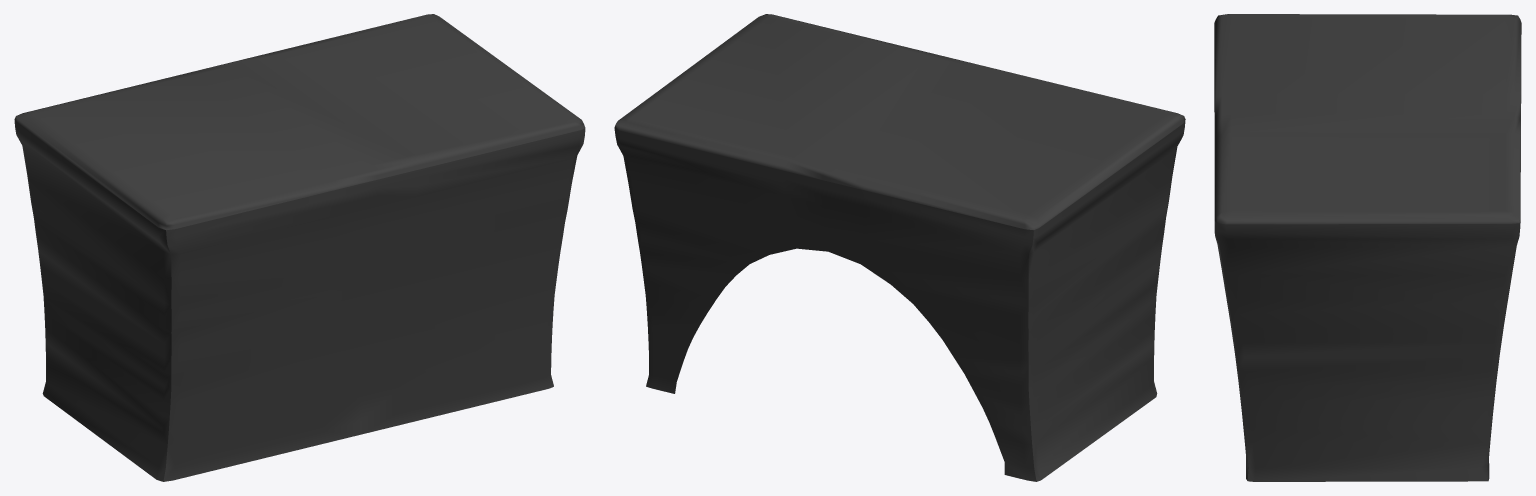
The model's file is multi-4ft-3-30.glb.
3 views of the same model, side by side, from view 1: azimuth 30°, elevation 25°; view 2: azimuth 150°, elevation 25°; view 3: azimuth 270°, elevation 25° (orthographic).
Visible parts, largest first — view 1: geometry_0; view 2: geometry_0; view 3: geometry_0.
Boxes of the visible parts, <box> form: geometry_0: <box>14,14,585,481</box>; geometry_0: <box>614,14,1185,481</box>; geometry_0: <box>1214,14,1521,481</box>.
Bounding box in the file's own units: 1.27 × 0.7812 × 0.7954.
Materials: 1 (1 with a texture image).
